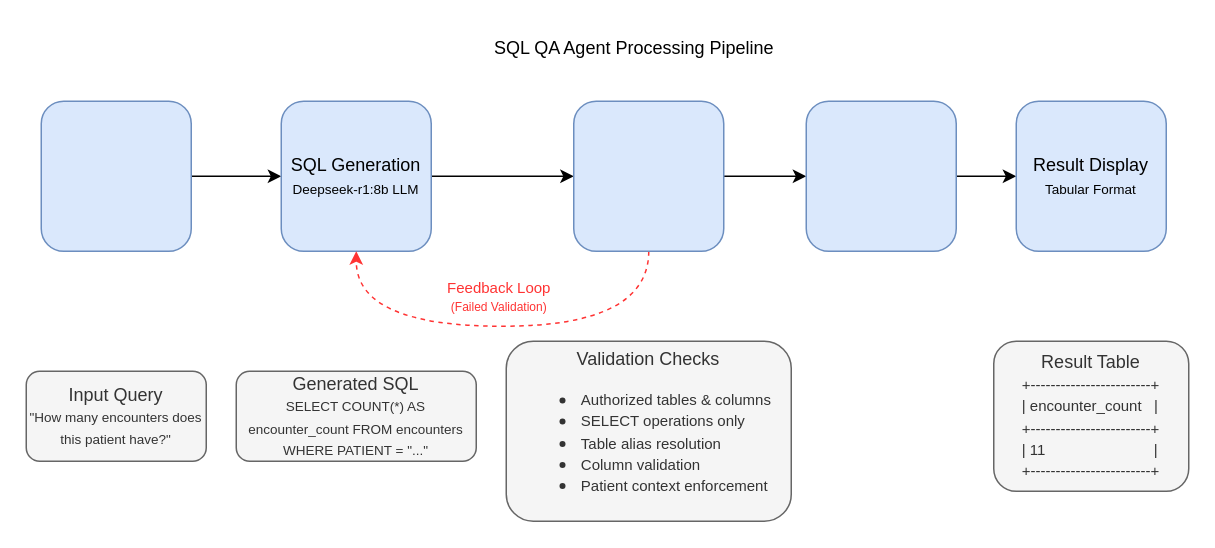
The diagram is 1215 pixels wide and 548 high, and some of its shapes have lost their labels. The centre of each missing label's shape, as x and y in pixels:
"Query Execution MySQL Database" belongs at pixel 880 175.
"Query Validation & Debugging Security Checks" belongs at pixel 648 175.
"Question Analysis Patient Context" belongs at pixel 115 175.
